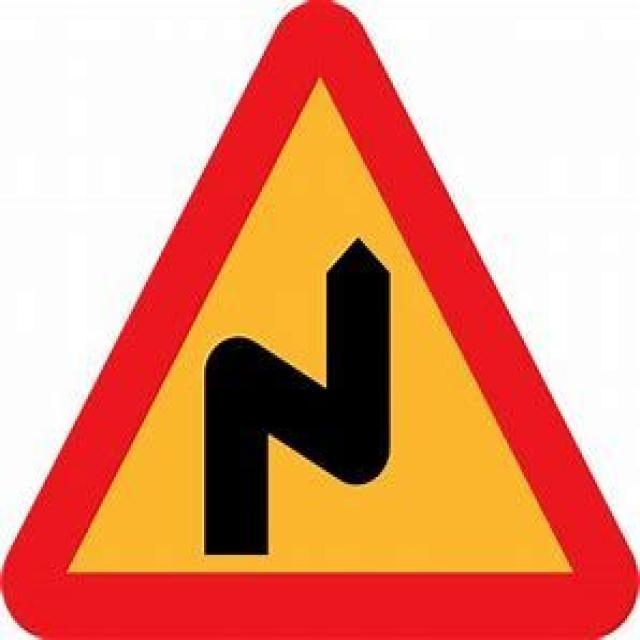right reverse bend: (26, 23, 600, 627)
